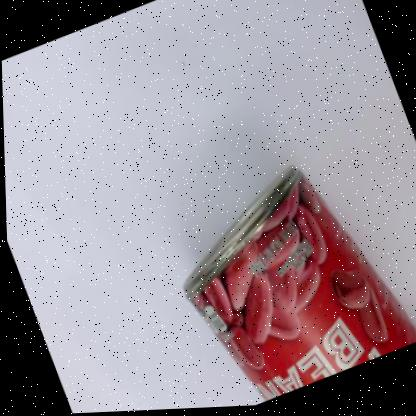Metal: (181, 168, 416, 404)
